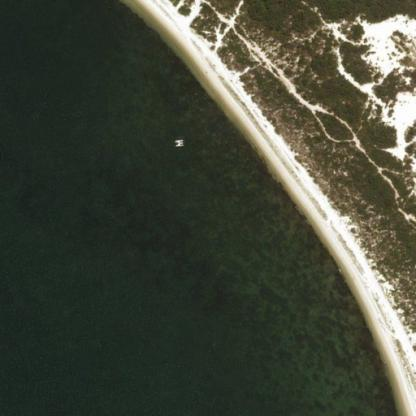ship: (170, 134, 188, 151)
